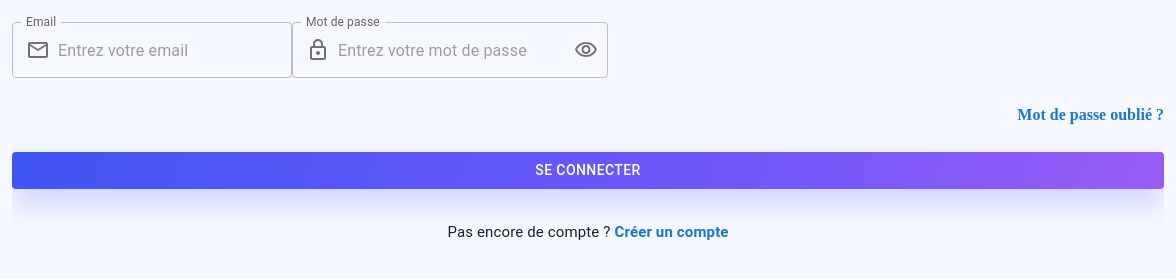
Test: LoginForm › affiche les erreurs lorsque les champs sont vides
The width and height of the screenshot is (1176, 279).
Click the button "Se connecter".
click(588, 170)  # box x1=12 y1=152 x2=1164 y2=188
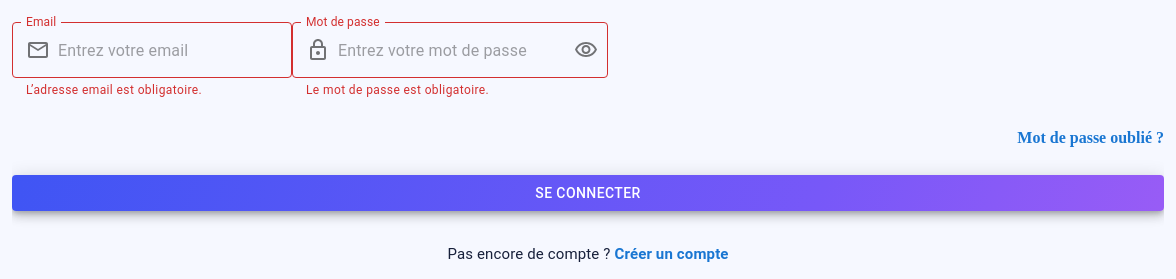
Result: the text "L’adresse email est obligatoire." is shown at x1=26 y1=83 x2=202 y2=97
Result: the text "Le mot de passe est obligatoire." is shown at x1=306 y1=83 x2=489 y2=97
